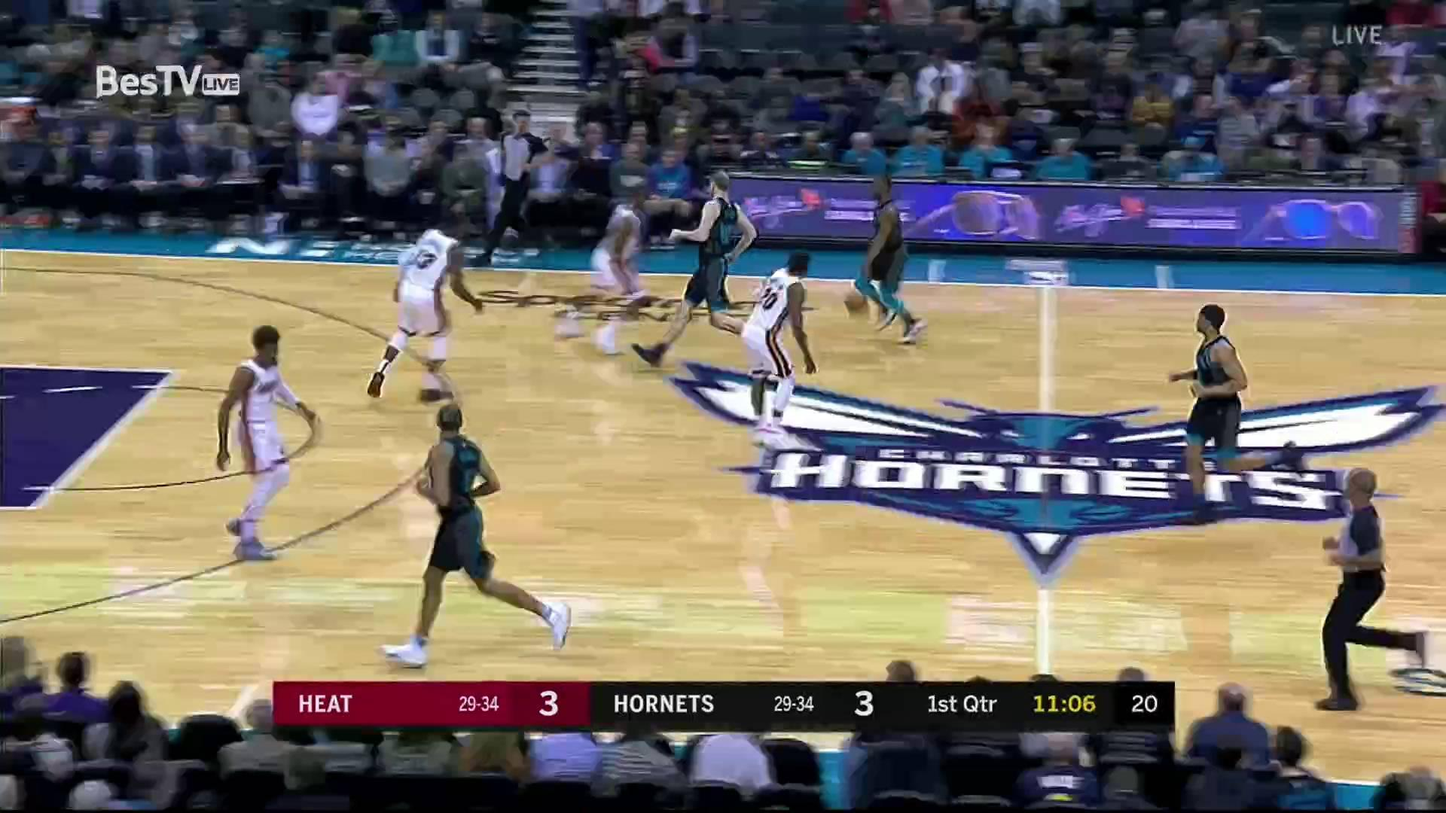basketball: (841, 289, 871, 318)
